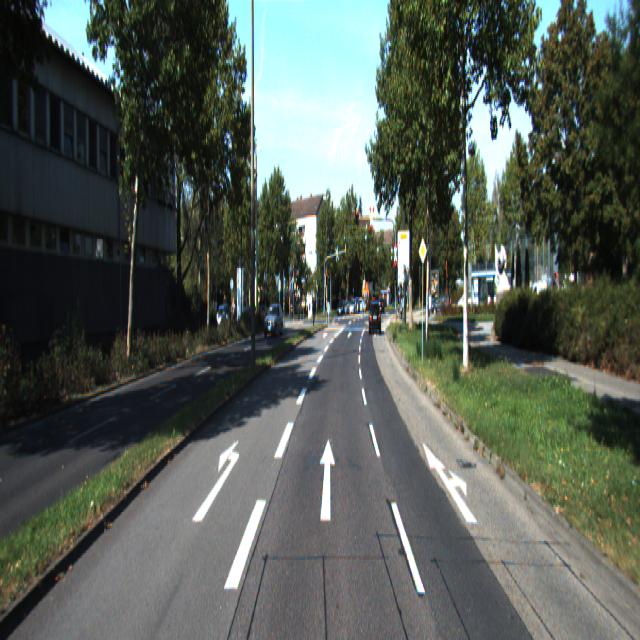Car: (264, 303, 284, 339), (369, 300, 381, 336)
